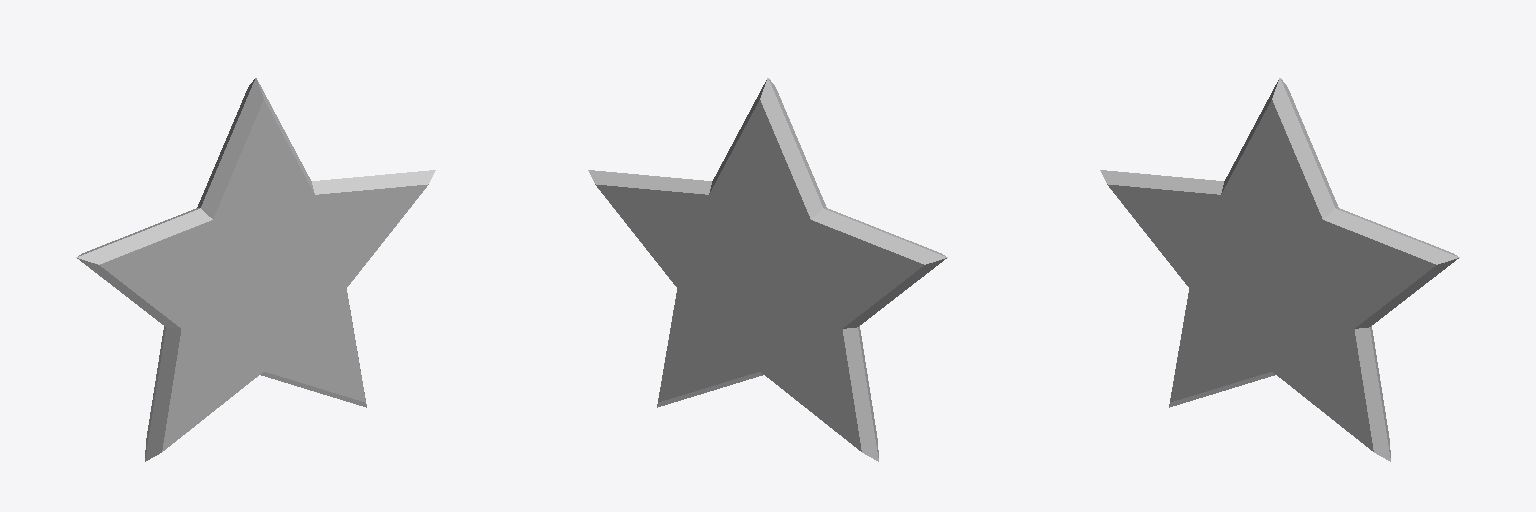
File: star.obj
3 renders of one model, left to right at view 1: azimuth 30°, elevation 25°; view 2: azimuth 150°, elevation 25°; view 3: azimuth 330°, elevation 25°, orthographic.
Visible parts, largest first — view 1: 円柱; view 2: 円柱; view 3: 円柱.
Boxes of the visible parts, x1=… form: 円柱: x1=76, y1=78, x2=435, y2=461; 円柱: x1=588, y1=78, x2=947, y2=461; 円柱: x1=1100, y1=78, x2=1459, y2=461.
Size of the model in its own units: 2.07 by 1.97 by 0.1603.